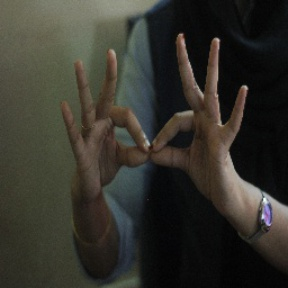B: (94, 86, 215, 186)
